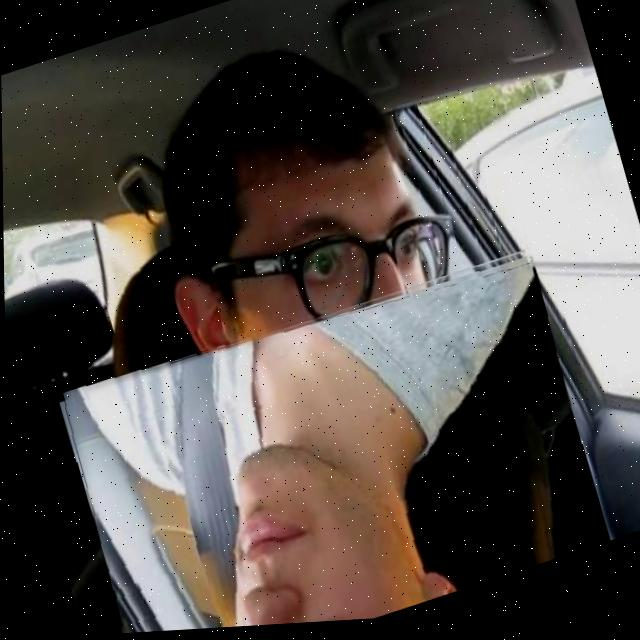seatbelt: (51, 246, 609, 638)
